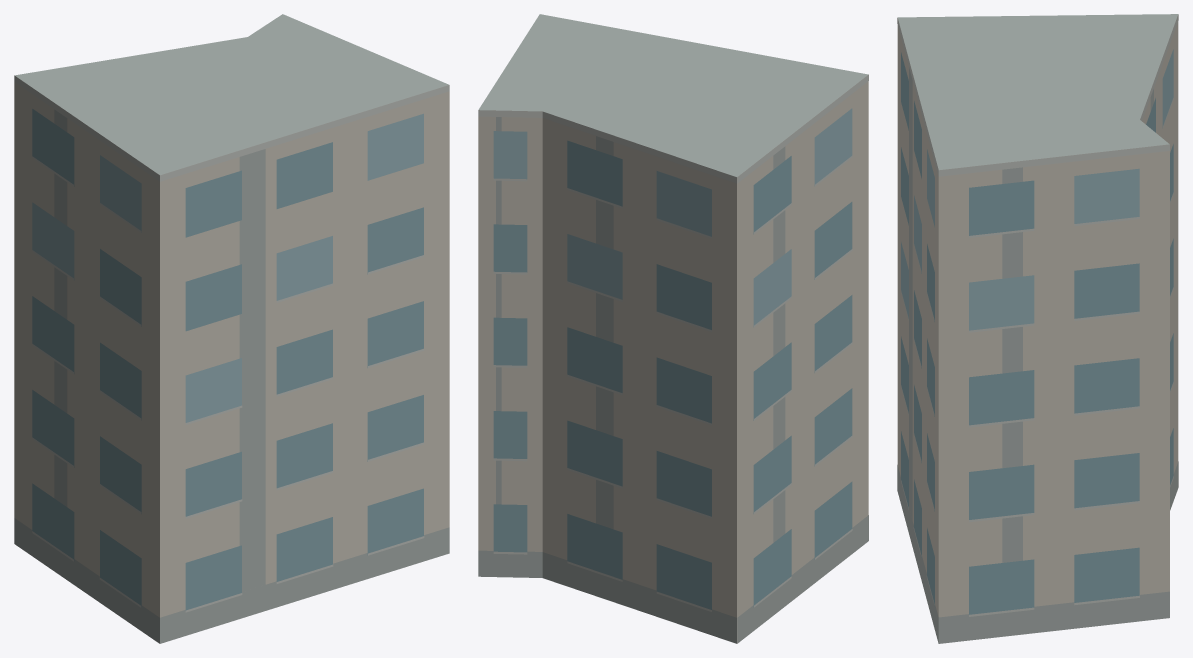
File: survey-upis-32784753.glb
The picture shows the model from 3 angles, left to right: view 1: azimuth 30°, elevation 25°; view 2: azimuth 150°, elevation 25°; view 3: azimuth 270°, elevation 25°; orthographic projection.
Visible parts, largest first — view 1: survey-upis-32784753.tmp; view 2: survey-upis-32784753.tmp; view 3: survey-upis-32784753.tmp.
Boxes of the visible parts, x1,y1,x2,y2 form: survey-upis-32784753.tmp: (14,14,449,643); survey-upis-32784753.tmp: (478,14,868,643); survey-upis-32784753.tmp: (897,14,1178,643).
Bounding box in the file's own units: 12.46 × 17.6 × 9.47.
